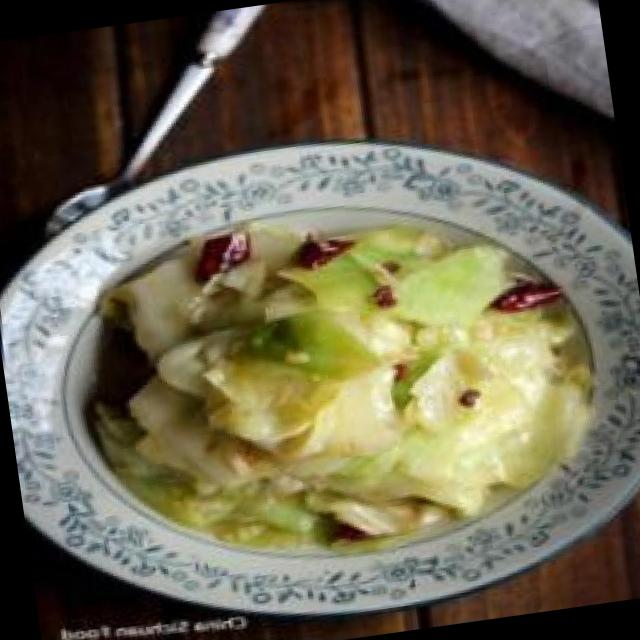chinese_cabbage: (74, 181, 604, 574)
